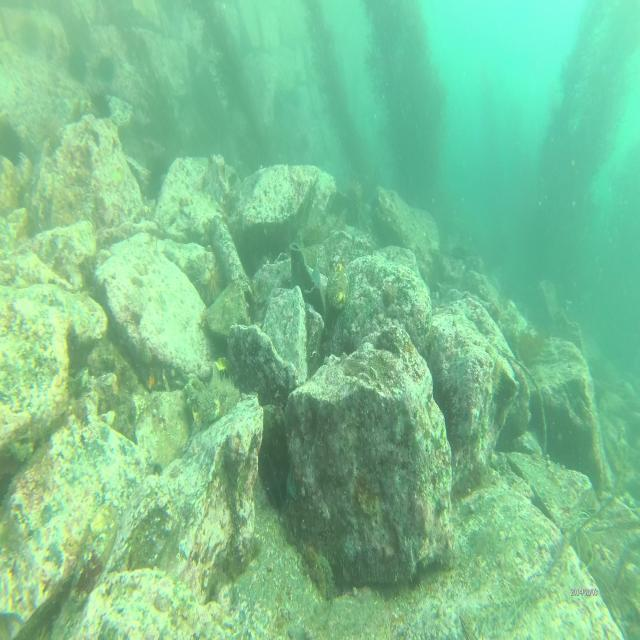echinus: (192, 256, 224, 305)
